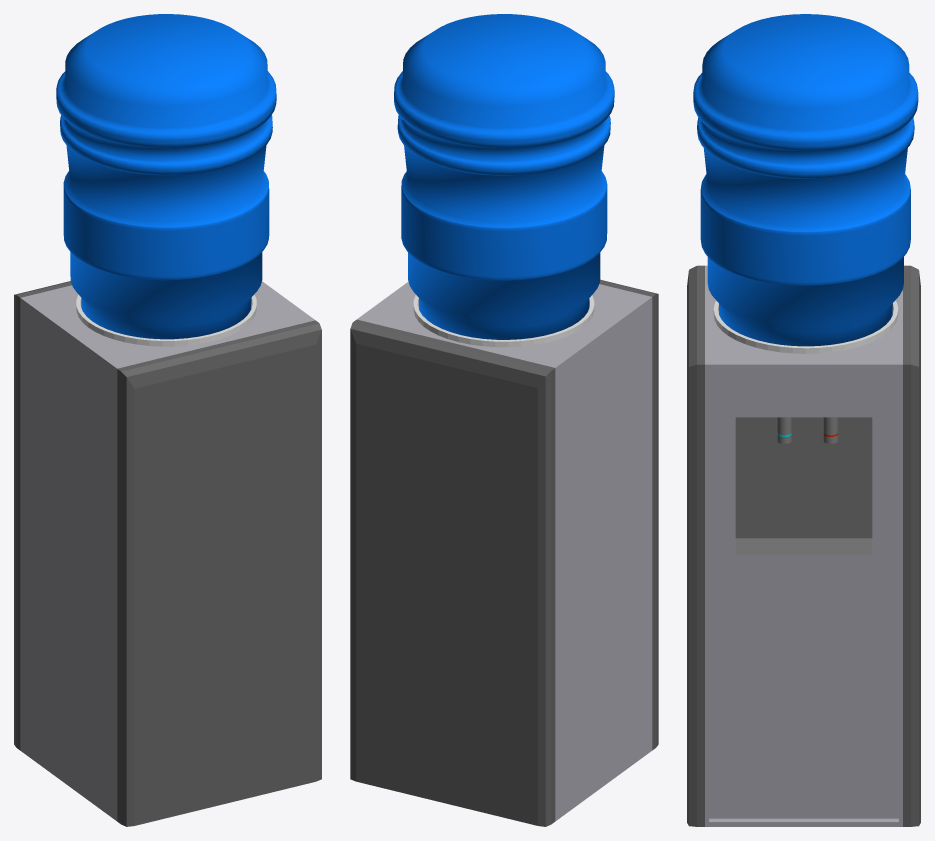
File: fontaine a eau .fbx
3 views of the same model, side by side, from view 1: azimuth 30°, elevation 25°; view 2: azimuth 150°, elevation 25°; view 3: azimuth 270°, elevation 25° (orthographic). The views are drawn at different scales.
Visible parts, largest first — view 1: Cylinder.027; view 2: Cylinder.027; view 3: Cylinder.027.
Boxes of the visible parts, x1,y1,x2,y2 form: Cylinder.027: [14, 14, 321, 826]; Cylinder.027: [350, 14, 658, 826]; Cylinder.027: [687, 14, 920, 826].
Bounding box in the file's own units: 581 × 1995 × 581.
